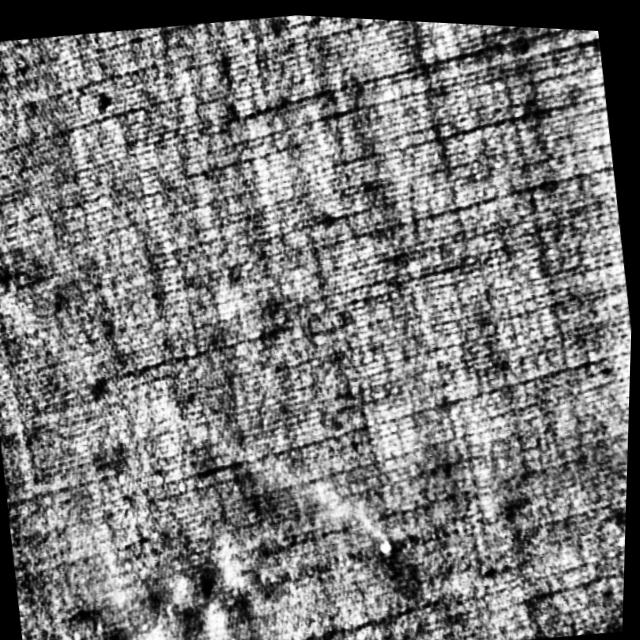Hole: (372, 522, 405, 570)
